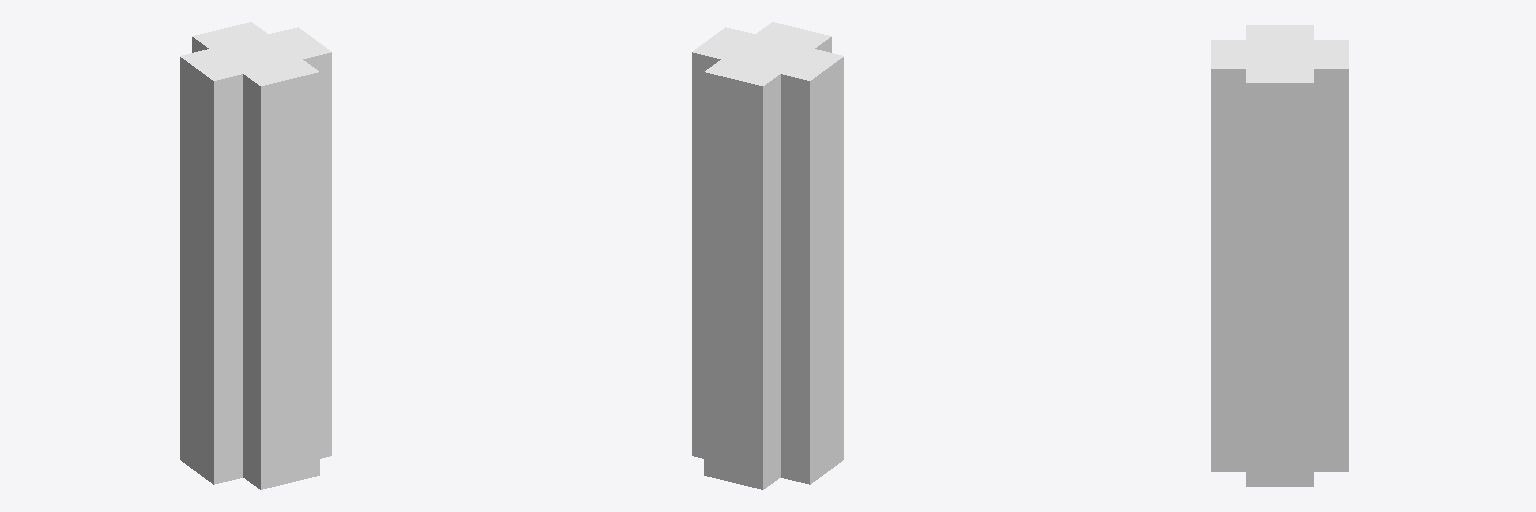
The model's file is column2.obj.
The picture shows the model from 3 angles: view 1: azimuth 30°, elevation 25°; view 2: azimuth 150°, elevation 25°; view 3: azimuth 270°, elevation 25°; orthographic projection.
Parts seen in each view (by area): view 1: object 1; view 2: object 1; view 3: object 1.
Part boxes in pixels (x1,y1,x2,y2): object 1: (180,22,331,489); object 1: (692,22,843,489); object 1: (1211,25,1348,486).
Bounding box in the file's own units: 0.4 × 1.3 × 0.4.